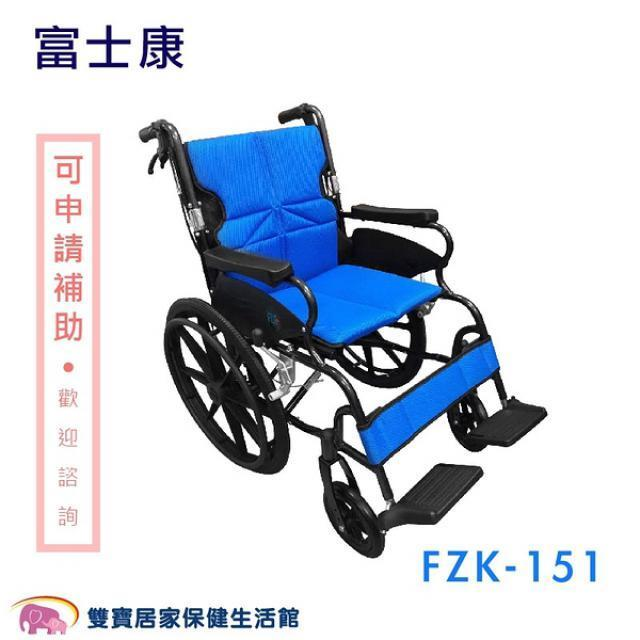wheelchairs: (142, 105, 541, 553)
